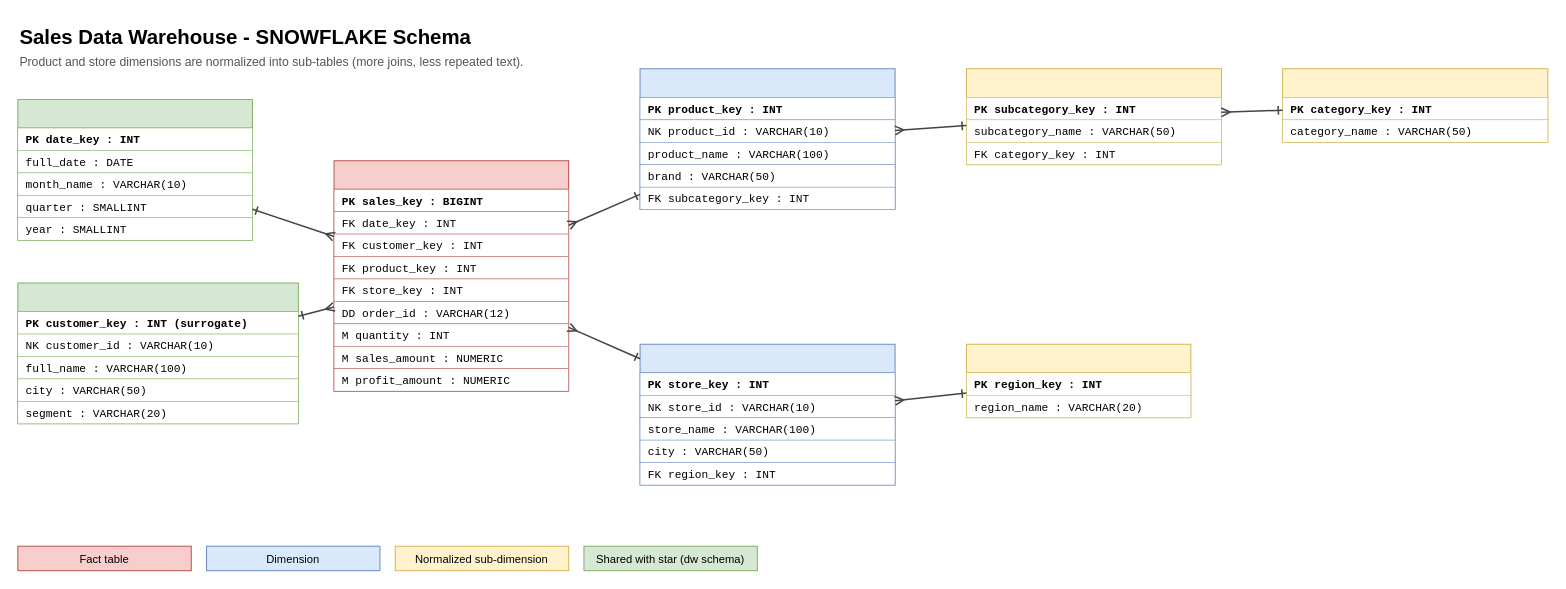
The diagram is 1566 pixels wide and 589 high, and some of its shapes have lost their labels. Here are the shapes that lost their labels. From the top down, the box of each, then its label:
(965, 68, 1221, 165): dw_snowflake.dim_subcategory
(1282, 68, 1548, 142): dw_snowflake.dim_category
(639, 68, 895, 210): dw_snowflake.dim_product
(17, 98, 252, 240): dw.dim_date
(333, 160, 569, 391): dw_snowflake.fact_sales
(17, 282, 298, 424): dw.dim_customer
(965, 343, 1191, 418): dw_snowflake.dim_region
(639, 343, 895, 485): dw_snowflake.dim_store
